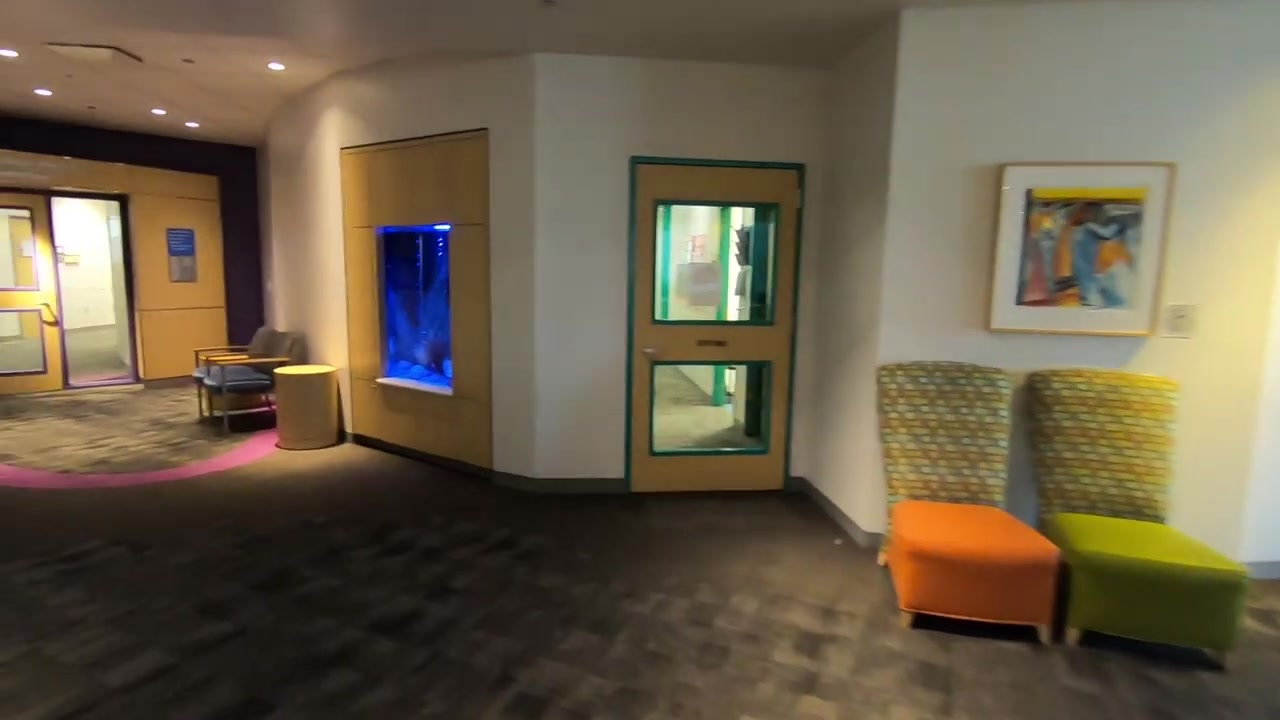chair: (210, 332, 304, 434), (196, 328, 279, 423)
door_handle: (30, 296, 57, 311), (641, 347, 658, 357)
sofa: (1024, 364, 1246, 675), (876, 356, 1065, 643)
table: (272, 363, 339, 450)
